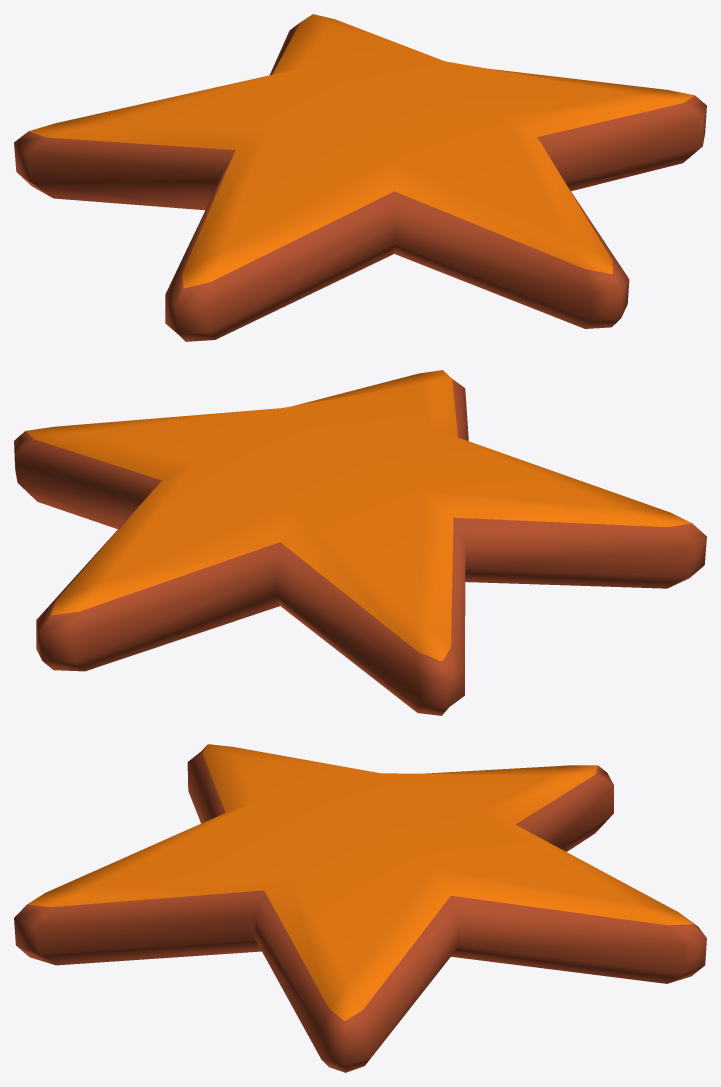
File: SM_Starfish_004.fbx
The picture shows the model from 3 angles, top to bottom: view 1: azimuth 30°, elevation 25°; view 2: azimuth 150°, elevation 25°; view 3: azimuth 270°, elevation 25°; orthographic projection. The views are drawn at different scales.
Parts seen in each view (by area): view 1: Starfish_004; view 2: Starfish_004; view 3: Starfish_004.
Part boxes in pixels (x1,y1,x2,y2): Starfish_004: [14, 14, 706, 341]; Starfish_004: [14, 370, 706, 715]; Starfish_004: [14, 744, 706, 1072].
Bounding box in the file's own units: 45.51 × 9.64 × 46.31.
1 material, 1 textured.
